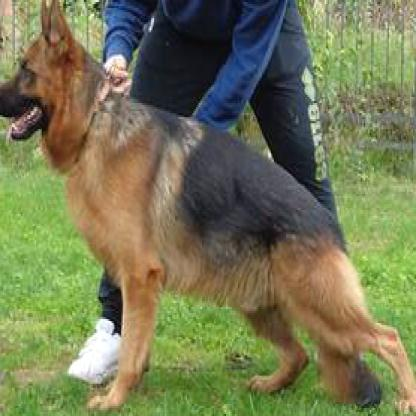dog: (1, 0, 416, 414)
